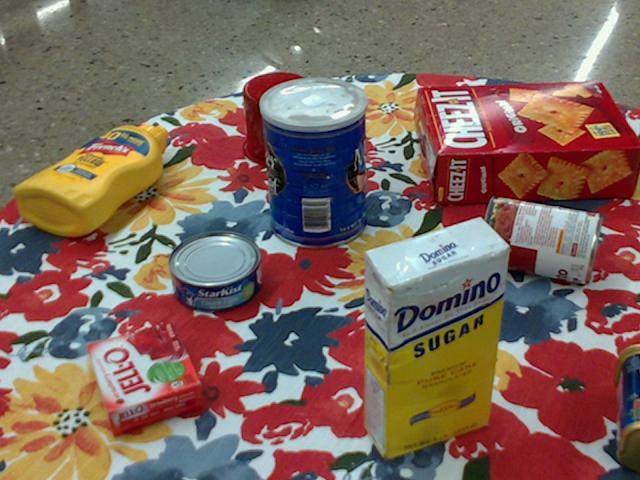cracker_box: (418, 82, 639, 206)
gelatin_box: (89, 324, 204, 439)
master_chef_can: (260, 76, 367, 249)
mug: (242, 72, 336, 167)
mustard_bottle: (14, 124, 167, 236)
potted_meat_can: (617, 341, 639, 468)
sugar_box: (363, 215, 509, 462)
tomato_soup_can: (482, 195, 603, 281)
tuna_fish_can: (167, 232, 261, 313)
